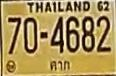0: (23, 16, 37, 52)
2: (96, 15, 111, 52)
4: (50, 16, 63, 52)
6: (65, 16, 79, 52)
7: (7, 17, 20, 52)
8: (81, 15, 94, 51)
TAK: (48, 57, 73, 74)
